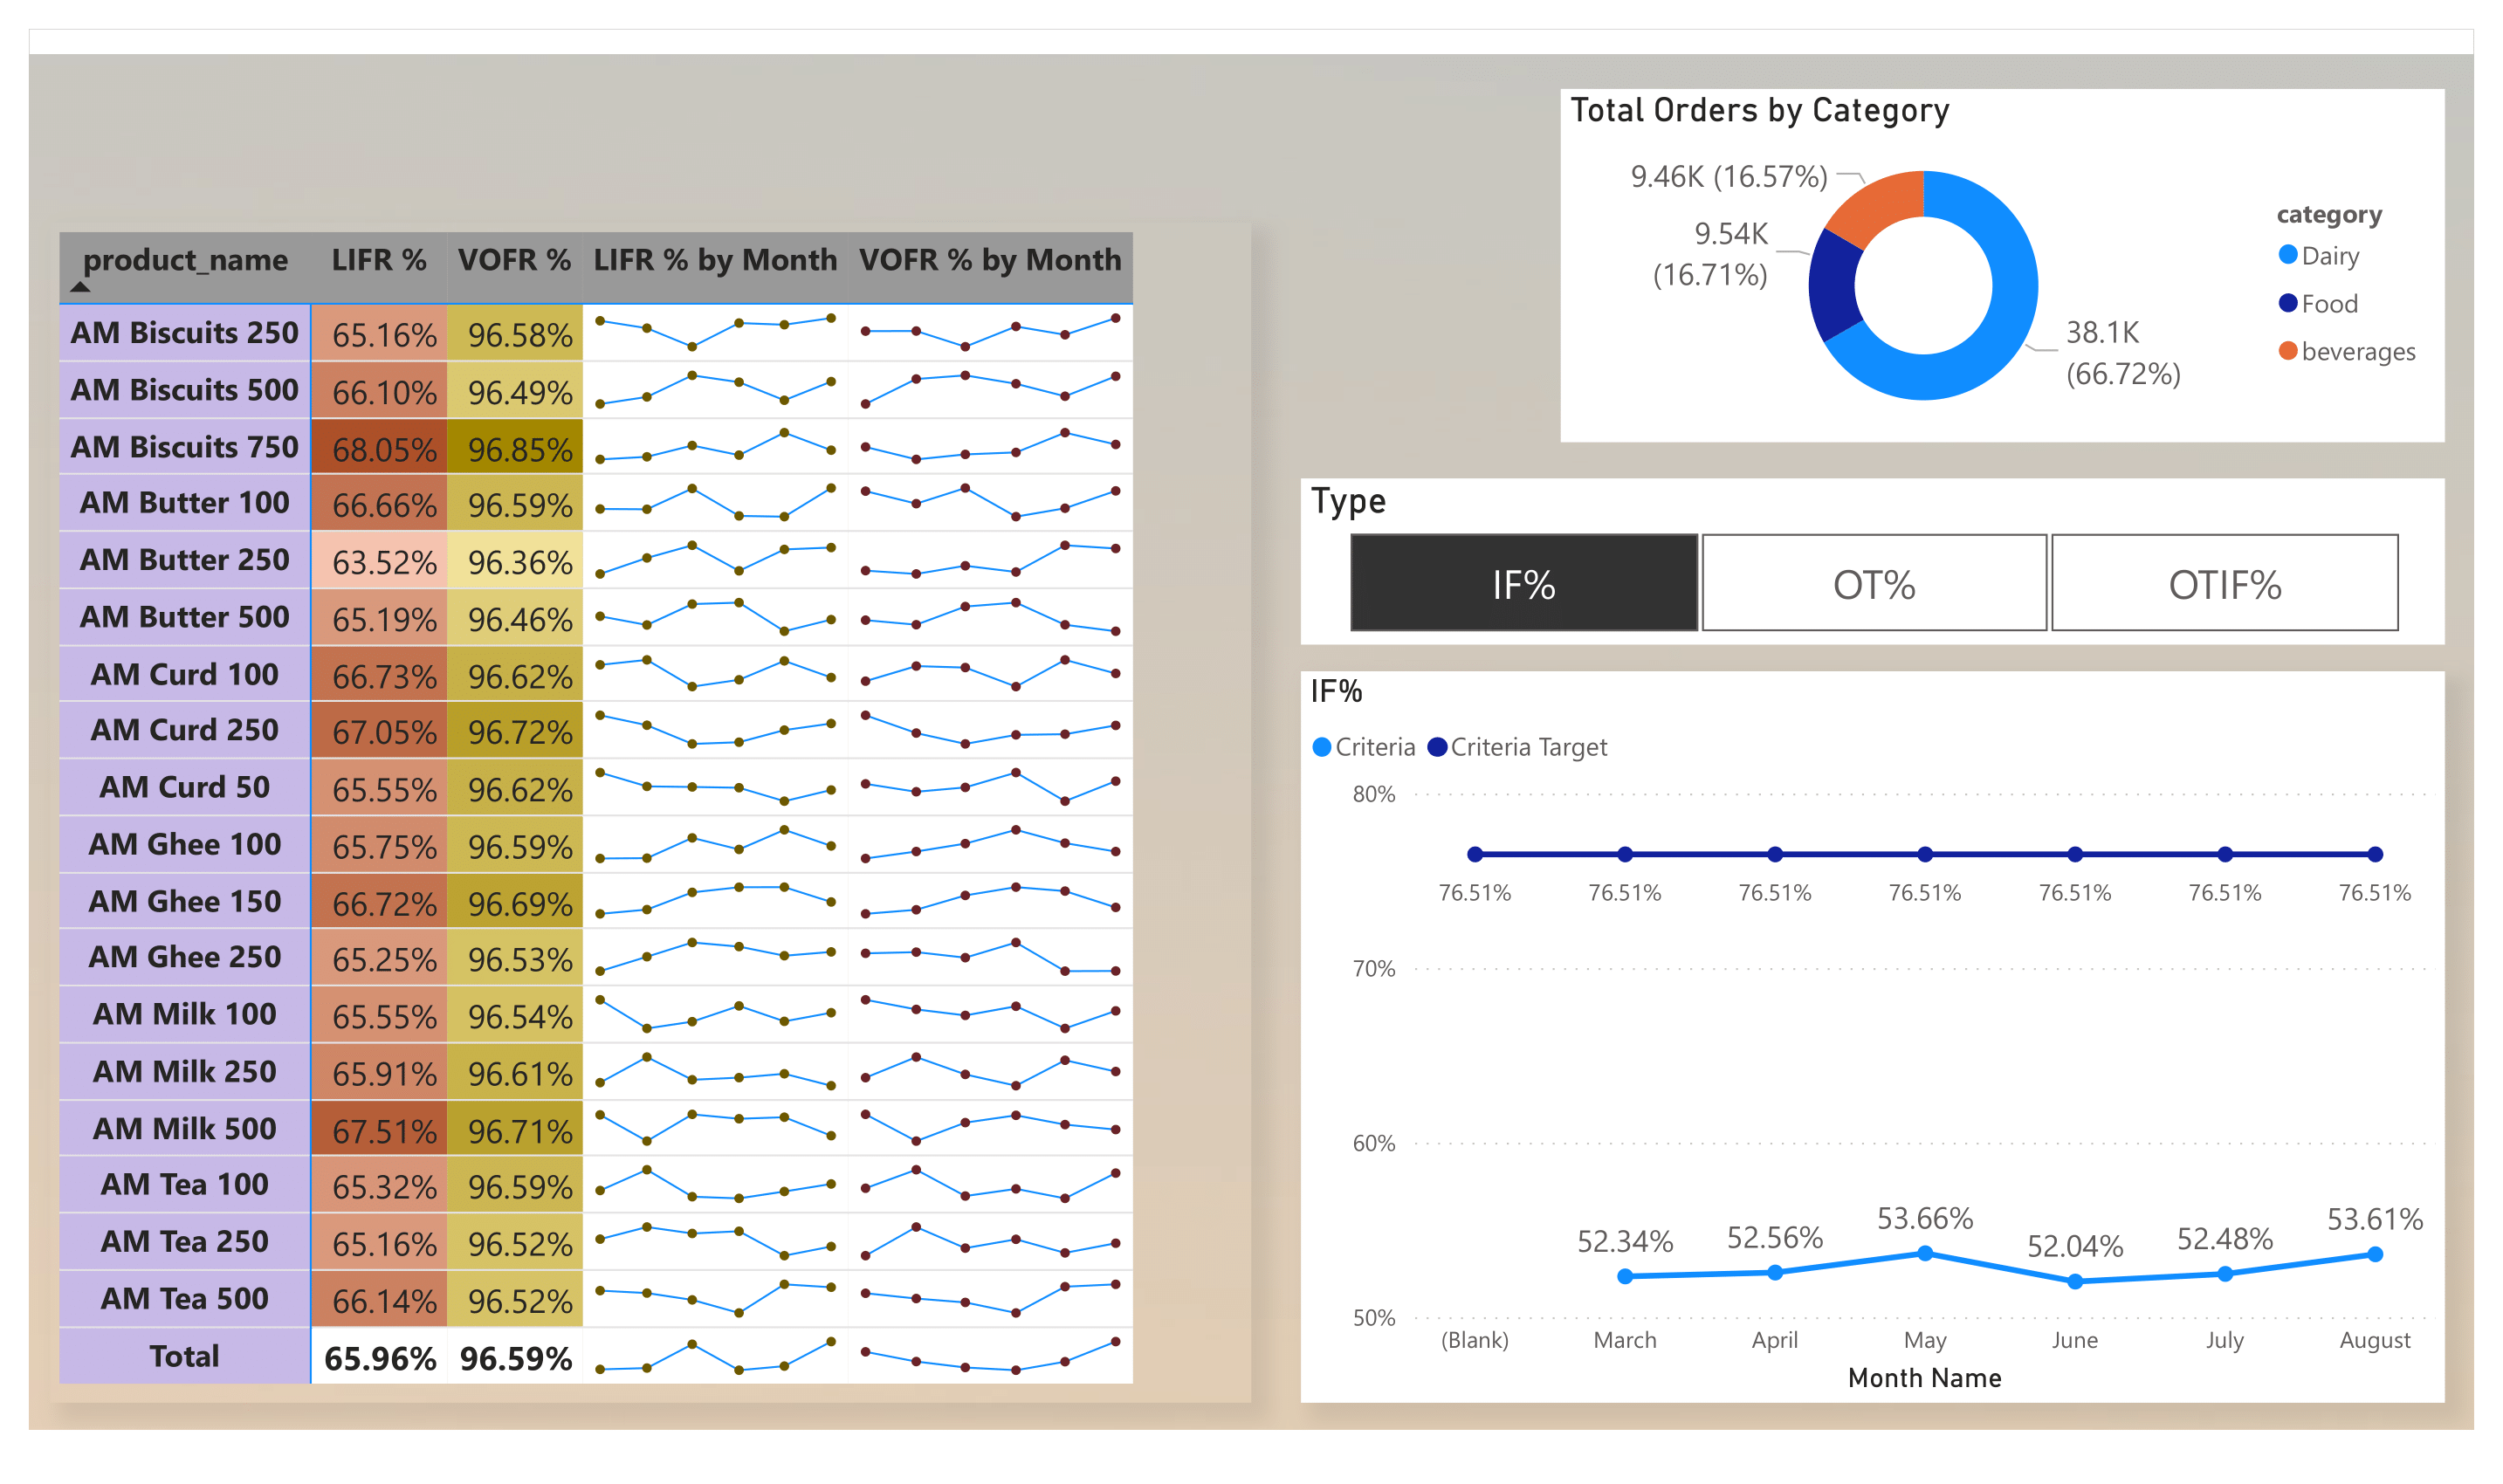

What the dashboard file says about the page in this screenshot:
{"tool":"powerbi","page":{"name":"Page 1","canvas":[1280,720],"ordinal":2},"visuals":[{"type":"lineChart","fields":{"Category":["dim_date.date.Variation.Date Hierarchy.Year","dim_date.date.Variation.Date Hierarchy.Quarter","dim_date.date.Variation.Date Hierarchy.Month","dim_date.date.Variation.Date Hierarchy.Day"],"Y":["Key_Measures.selected Calculation","Key_Measures.selected Calculation2"]},"box":[13.3,195,640,513.3],"z":0},{"type":"slicer","fields":{"Values":["Control.Type"]},"box":[60,43.3,473.3,96.7],"z":1000},{"type":"pivotTable","fields":{"Values":["Key_Measures.LIFR %","Key_Measures.VOFR %","Key_Measures.Undelivered Items"],"Rows":["dim_products.category","dim_products.product_name"]},"box":[673.3,185,575,518.3],"z":2000}]}

Visuals, with their boxes on the page's 1280x720 design canvas (x1, y1, x2, y2). These are canvas units, not pixel positions in the 2503x1484 screenshot, which may show the page scaled, cropped or inside an application window:
lineChart - dim_date.date.Variation.Date Hierarchy.Year x dim_date.date.Variation.Date Hierarchy.Quarter: 13,195,653,708
slicer - Control.Type: 60,43,533,140
pivotTable - Key_Measures.LIFR % x Key_Measures.VOFR %: 673,185,1248,703
